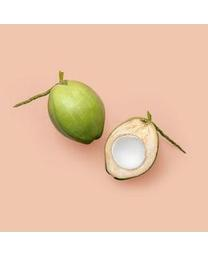coconut: (48, 78, 106, 145), (103, 115, 162, 180)
